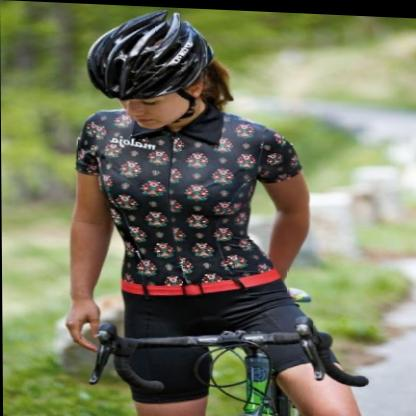With Helmet: (78, 5, 235, 142)
